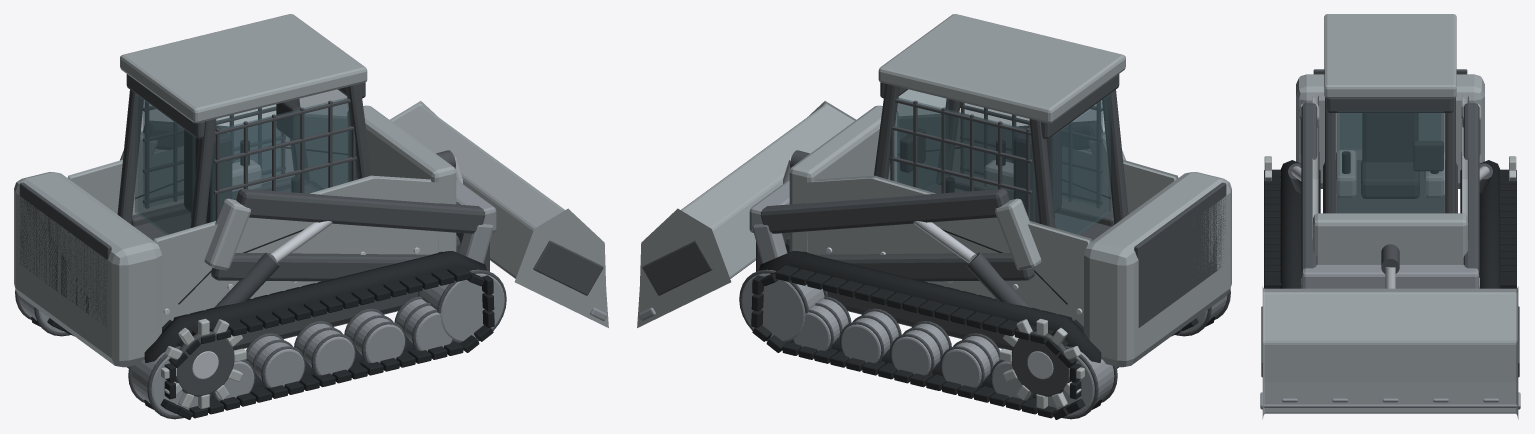
Rendered from john-deere-333-p-tier-structural-study.glb.
3 views of the same model, side by side, from view 1: azimuth 30°, elevation 25°; view 2: azimuth 150°, elevation 25°; view 3: azimuth 270°, elevation 25° (orthographic). The views are drawn at different scales.
Visible parts, largest first — view 1: RearCounterweight_Core, ROPS_Roof, FoundryBucket_VisualBasis, SideServicePanel_L, Cab_SideGlass_L, VerticalLift_UpperArm_L, SideServicePanel_R, Cab_RearGlass, TrackBelt_L, Cab_SideGlass_R, FrontBulkhead, RearServiceDoor (+31 smaller); view 2: ROPS_Roof, RearCounterweight_Core, FoundryBucket_VisualBasis, SideServicePanel_R, Cab_SideGlass_R, RearServiceDoor, VerticalLift_UpperArm_R, Cab_RearGlass, TrackBelt_R, SideServicePanel_L, Cab_SideGlass_L, FrontBulkhead (+32 smaller); view 3: FoundryBucket_VisualBasis, ROPS_Roof, Cab_FrontGlass, FrontBulkhead, RearCounterweight_Core, LiftCrossmember, OperatorSeat_Back, TrackBelt_L, TrackBelt_R, VerticalLift_UpperArm_L, VerticalLift_UpperArm_R, OperatorDeck (+12 smaller).
Part boxes in pixels (<box>): RearCounterweight_Core: <box>14,172,161,367</box>; ROPS_Roof: <box>120,14,367,123</box>; FoundryBucket_VisualBasis: <box>390,101,608,327</box>; SideServicePanel_L: <box>154,175,439,326</box>; Cab_SideGlass_L: <box>210,97,348,221</box>; VerticalLift_UpperArm_L: <box>236,189,485,233</box>; SideServicePanel_R: <box>67,114,347,215</box>; Cab_RearGlass: <box>135,93,195,235</box>; TrackBelt_L: <box>144,251,486,409</box>; Cab_SideGlass_R: <box>143,100,281,207</box>; FrontBulkhead: <box>347,105,456,252</box>; RearServiceDoor: <box>19,182,111,326</box>; ROPS_Roof: <box>878,14,1125,123</box>; RearCounterweight_Core: <box>1084,172,1231,367</box>; FoundryBucket_VisualBasis: <box>637,101,855,327</box>; SideServicePanel_R: <box>806,175,1091,326</box>; Cab_SideGlass_R: <box>897,97,1035,221</box>; RearServiceDoor: <box>1134,182,1226,327</box>; VerticalLift_UpperArm_R: <box>760,189,1009,233</box>; Cab_RearGlass: <box>1050,93,1110,235</box>; TrackBelt_R: <box>759,251,1101,409</box>; SideServicePanel_L: <box>898,113,1178,215</box>; Cab_SideGlass_L: <box>964,100,1102,207</box>; FrontBulkhead: <box>789,105,898,252</box>; FoundryBucket_VisualBasis: <box>1262,286,1518,419</box>; ROPS_Roof: <box>1324,14,1456,98</box>; Cab_FrontGlass: <box>1337,111,1443,213</box>; FrontBulkhead: <box>1313,213,1467,264</box>; RearCounterweight_Core: <box>1296,74,1484,188</box>; LiftCrossmember: <box>1302,264,1478,288</box>; OperatorSeat_Back: <box>1362,113,1418,162</box>; TrackBelt_L: <box>1280,160,1301,288</box>; TrackBelt_R: <box>1479,160,1500,288</box>; VerticalLift_UpperArm_L: <box>1301,103,1317,277</box>; VerticalLift_UpperArm_R: <box>1463,103,1479,277</box>; OperatorDeck: <box>1335,161,1445,213</box>.
Size of the model in its own units: 3.85 by 2.22 by 2.12.
